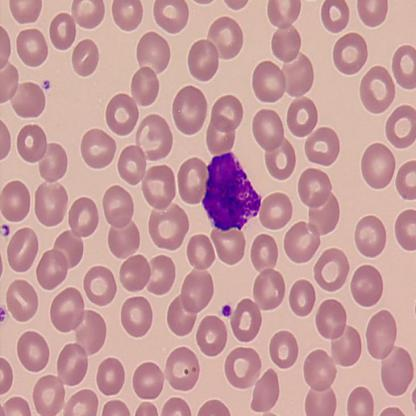Basophil: (198, 149, 264, 234)
